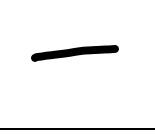minus: (32, 44, 119, 62)
